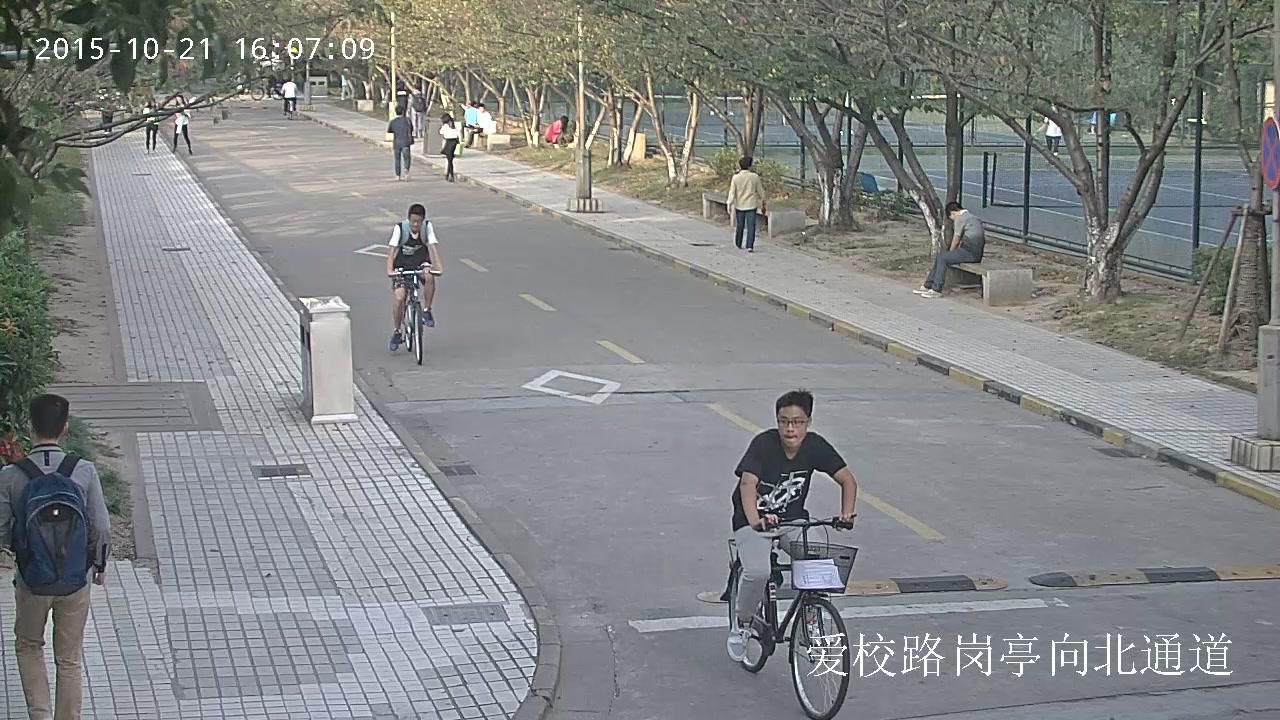face: (776, 406, 808, 447), (409, 214, 424, 232), (176, 96, 182, 104), (948, 214, 955, 220), (1051, 104, 1056, 111), (478, 106, 484, 111), (150, 99, 154, 105)
